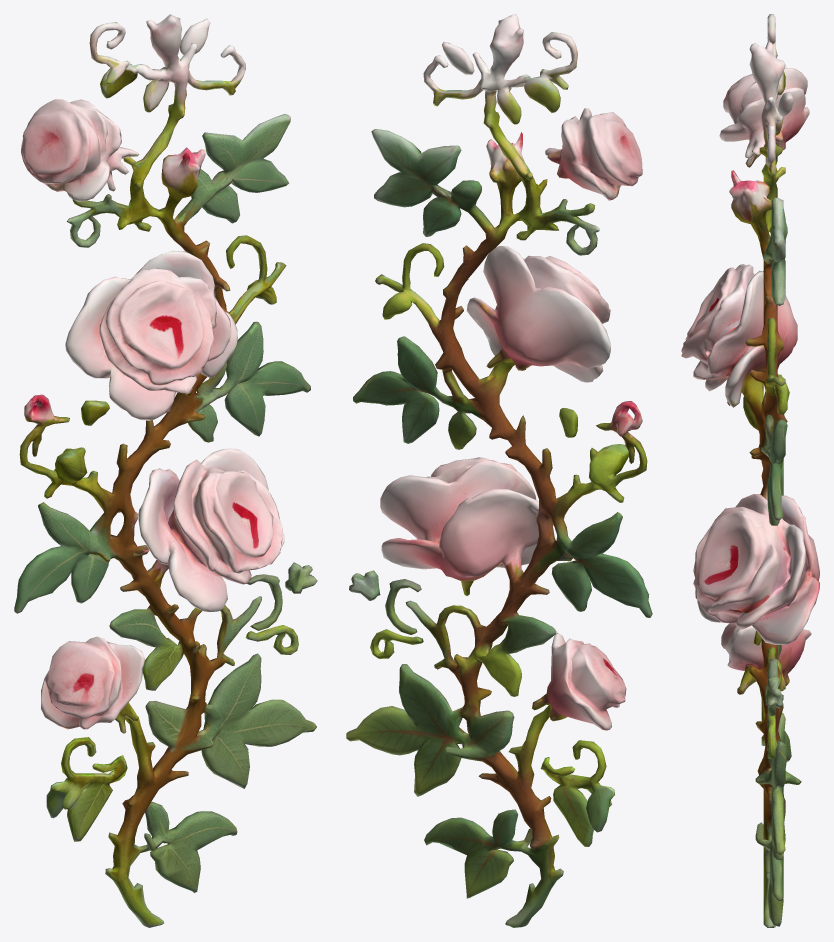
File: rose-vine-compressed.glb
The picture shows the model from 3 angles, left to right: view 1: azimuth 30°, elevation 25°; view 2: azimuth 150°, elevation 25°; view 3: azimuth 270°, elevation 25°; orthographic projection. The views are drawn at different scales.
Parts seen in each view (by area): view 1: Mesh_0.001; view 2: Mesh_0.001; view 3: Mesh_0.001.
Part boxes in pixels (left/top/right/bottom): Mesh_0.001: left=14, top=14, right=317, bottom=927; Mesh_0.001: left=346, top=14, right=652, bottom=927; Mesh_0.001: left=681, top=14, right=819, bottom=927.
Size of the model in its own units: 0.1396 by 0.4 by 0.0567.
1 material, 1 textured.
